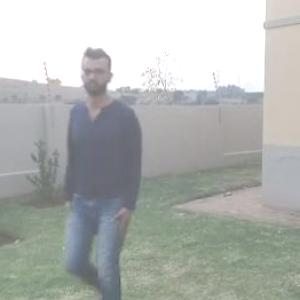follow: (62, 42, 145, 299)
